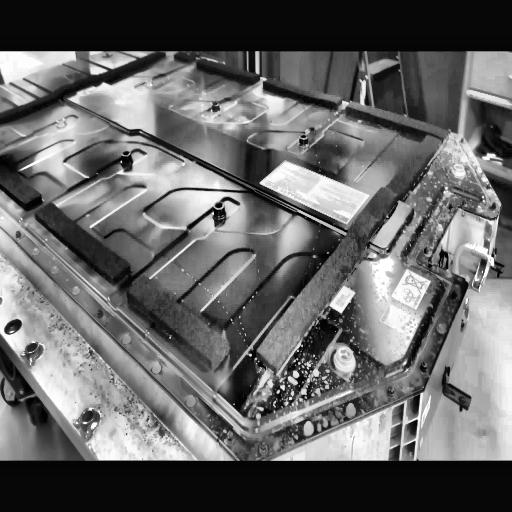b_casing: (0, 51, 504, 460)
